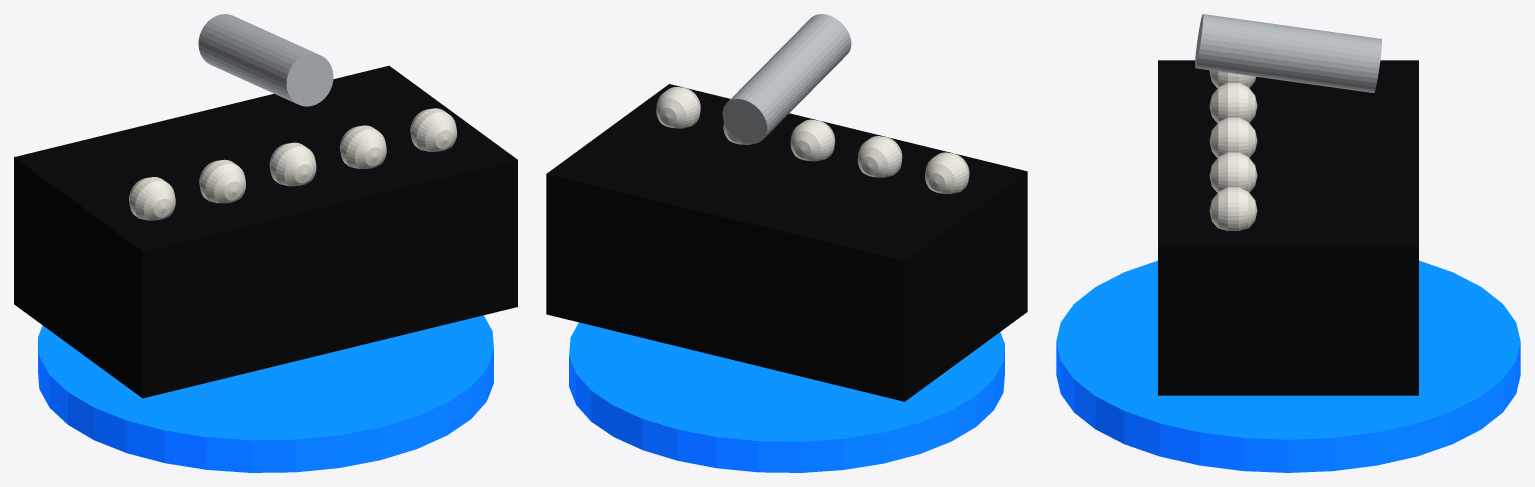
File: news_typewriter.dae
3 views of the same model, side by side, from view 1: azimuth 30°, elevation 25°; view 2: azimuth 150°, elevation 25°; view 3: azimuth 270°, elevation 25° (orthographic). The views are drawn at different scales.
Parts seen in each view (by area): view 1: 09_17_Popular_News_Typewriter_part_01, 09_17_Popular_News_Typewriter_ROOT_base, 09_17_Popular_News_Typewriter_part_02, 09_17_Popular_News_Typewriter_part_03, 09_17_Popular_News_Typewriter_part_05, 09_17_Popular_News_Typewriter_part_07, 09_17_Popular_News_Typewriter_part_04, 09_17_Popular_News_Typewriter_part_06; view 2: 09_17_Popular_News_Typewriter_part_01, 09_17_Popular_News_Typewriter_ROOT_base, 09_17_Popular_News_Typewriter_part_02, 09_17_Popular_News_Typewriter_part_05, 09_17_Popular_News_Typewriter_part_04, 09_17_Popular_News_Typewriter_part_07, 09_17_Popular_News_Typewriter_part_03; view 3: 09_17_Popular_News_Typewriter_part_01, 09_17_Popular_News_Typewriter_ROOT_base, 09_17_Popular_News_Typewriter_part_02, 09_17_Popular_News_Typewriter_part_07, 09_17_Popular_News_Typewriter_part_05, 09_17_Popular_News_Typewriter_part_04, 09_17_Popular_News_Typewriter_part_06, 09_17_Popular_News_Typewriter_part_03.
Part boxes in pixels (<box>): 09_17_Popular_News_Typewriter_part_01: <box>14,65,517,398</box>; 09_17_Popular_News_Typewriter_ROOT_base: <box>38,315,493,472</box>; 09_17_Popular_News_Typewriter_part_02: <box>198,14,333,106</box>; 09_17_Popular_News_Typewriter_part_03: <box>129,177,175,220</box>; 09_17_Popular_News_Typewriter_part_05: <box>269,142,316,186</box>; 09_17_Popular_News_Typewriter_part_07: <box>410,108,456,151</box>; 09_17_Popular_News_Typewriter_part_04: <box>199,159,245,203</box>; 09_17_Popular_News_Typewriter_part_06: <box>340,125,386,169</box>; 09_17_Popular_News_Typewriter_part_01: <box>546,84,1027,401</box>; 09_17_Popular_News_Typewriter_ROOT_base: <box>569,322,1004,472</box>; 09_17_Popular_News_Typewriter_part_02: <box>722,14,851,143</box>; 09_17_Popular_News_Typewriter_part_05: <box>790,119,835,161</box>; 09_17_Popular_News_Typewriter_part_04: <box>857,136,902,177</box>; 09_17_Popular_News_Typewriter_part_07: <box>656,87,700,128</box>; 09_17_Popular_News_Typewriter_part_03: <box>925,152,969,193</box>; 09_17_Popular_News_Typewriter_part_01: <box>1158,60,1418,395</box>; 09_17_Popular_News_Typewriter_ROOT_base: <box>1056,260,1520,472</box>; 09_17_Popular_News_Typewriter_part_02: <box>1195,14,1381,92</box>; 09_17_Popular_News_Typewriter_part_07: <box>1209,187,1257,230</box>; 09_17_Popular_News_Typewriter_part_05: <box>1209,117,1257,157</box>; 09_17_Popular_News_Typewriter_part_04: <box>1209,82,1257,122</box>; 09_17_Popular_News_Typewriter_part_06: <box>1209,152,1257,192</box>; 09_17_Popular_News_Typewriter_part_03: <box>1209,70,1255,87</box>.
Bounding box in the file's own units: 0.76 × 0.6469 × 0.76.
